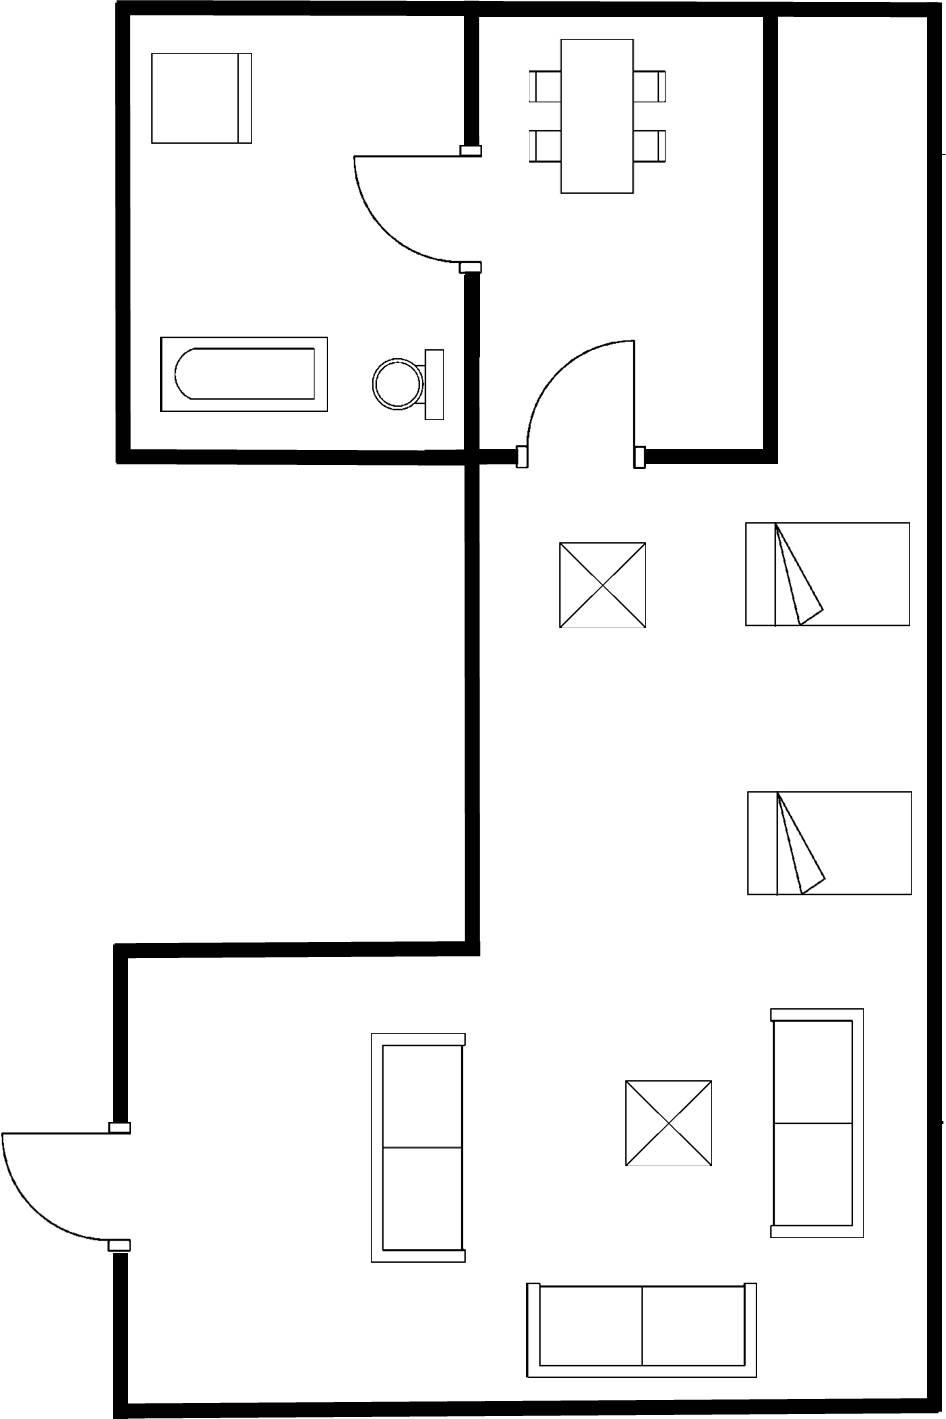bed: (738, 782, 922, 906), (738, 511, 916, 638)
coffee_table: (615, 1073, 723, 1174), (548, 535, 652, 636)
dining_table: (520, 31, 674, 205)
large_sink: (366, 342, 451, 427)
large_sofa: (359, 1027, 474, 1271), (762, 999, 870, 1248), (519, 1278, 763, 1386)
small_sofa: (145, 46, 262, 156)
tub: (151, 331, 335, 421)
